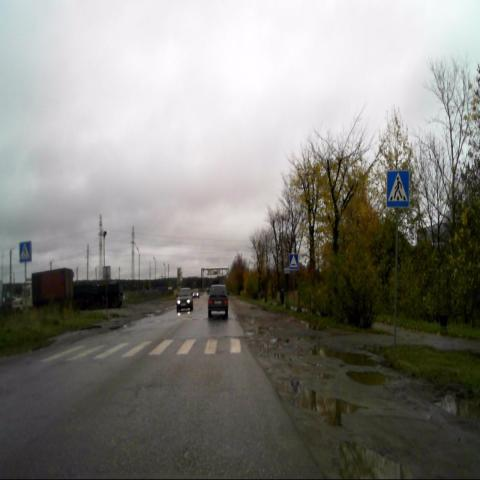5_19_1: (19, 240, 32, 263)
